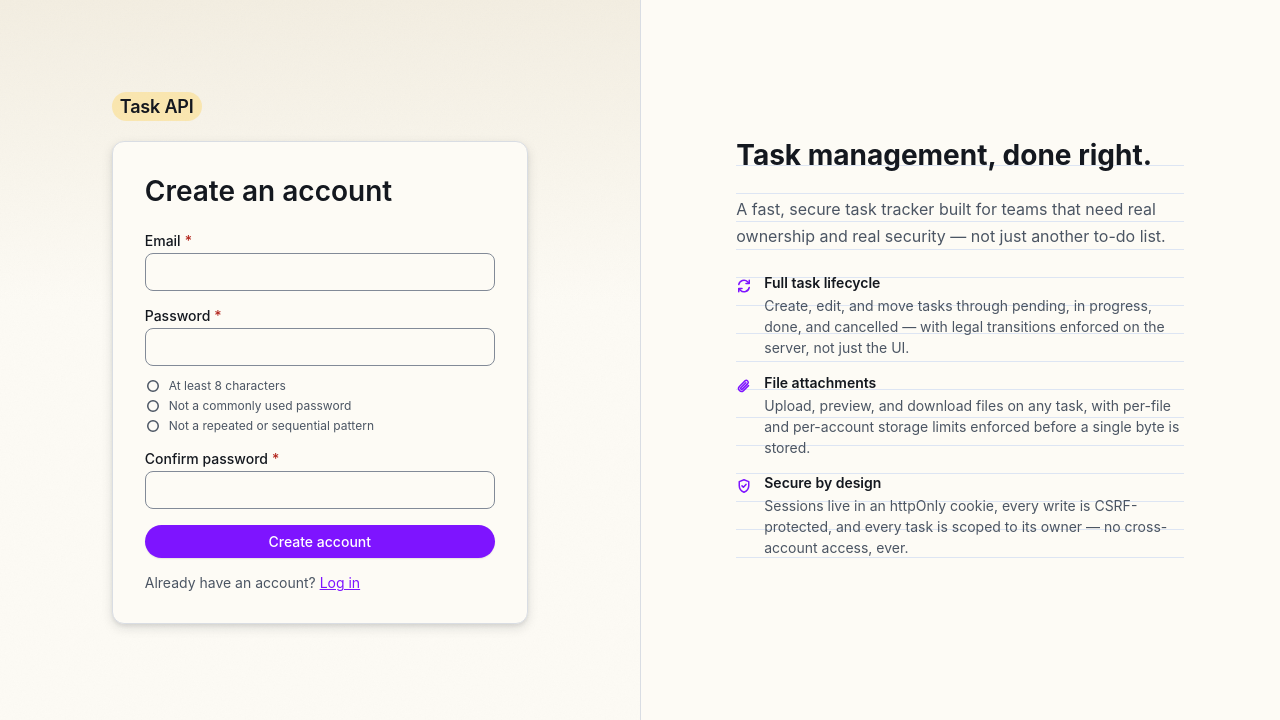
Test: RegisterPage › shows the server message verbatim on a 409 (email already registered)
Type "alice@example.com" into the field labelled "Email*" at (320, 272), box [145,253,495,291]
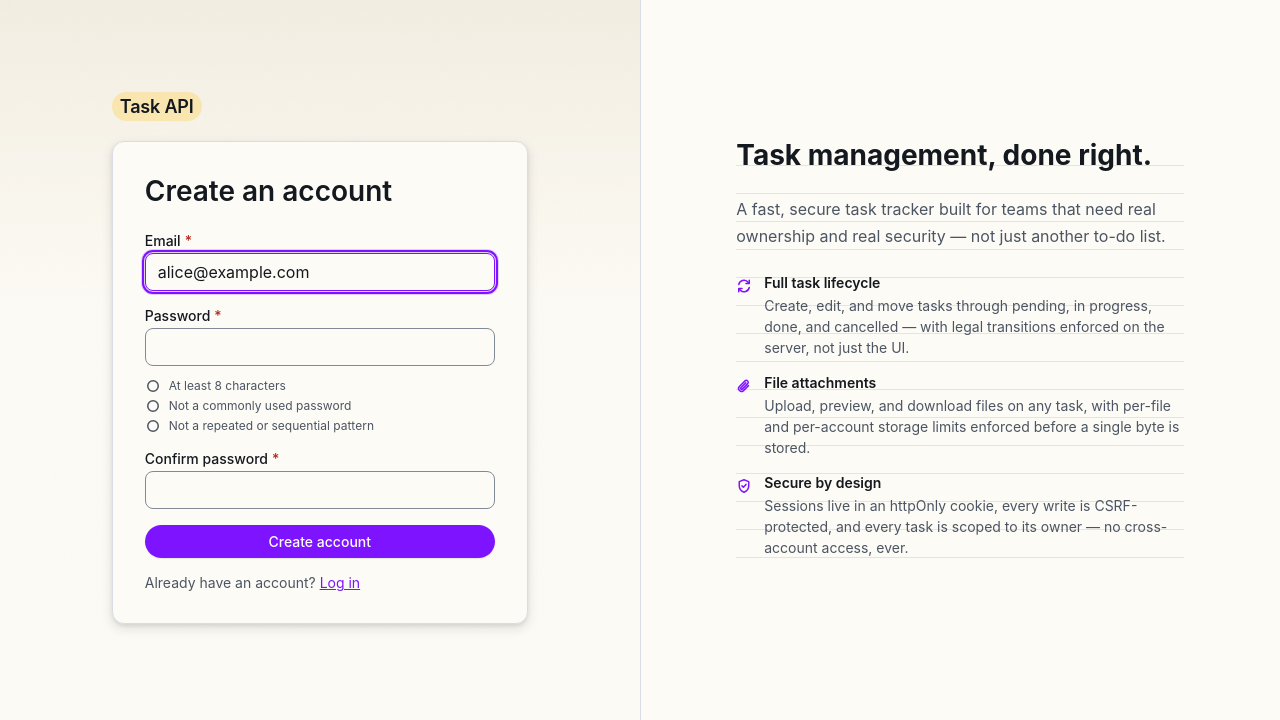
Type "correct horse battery staple" into the password field labelled "Password*" at (320, 347), box [145,328,495,366]
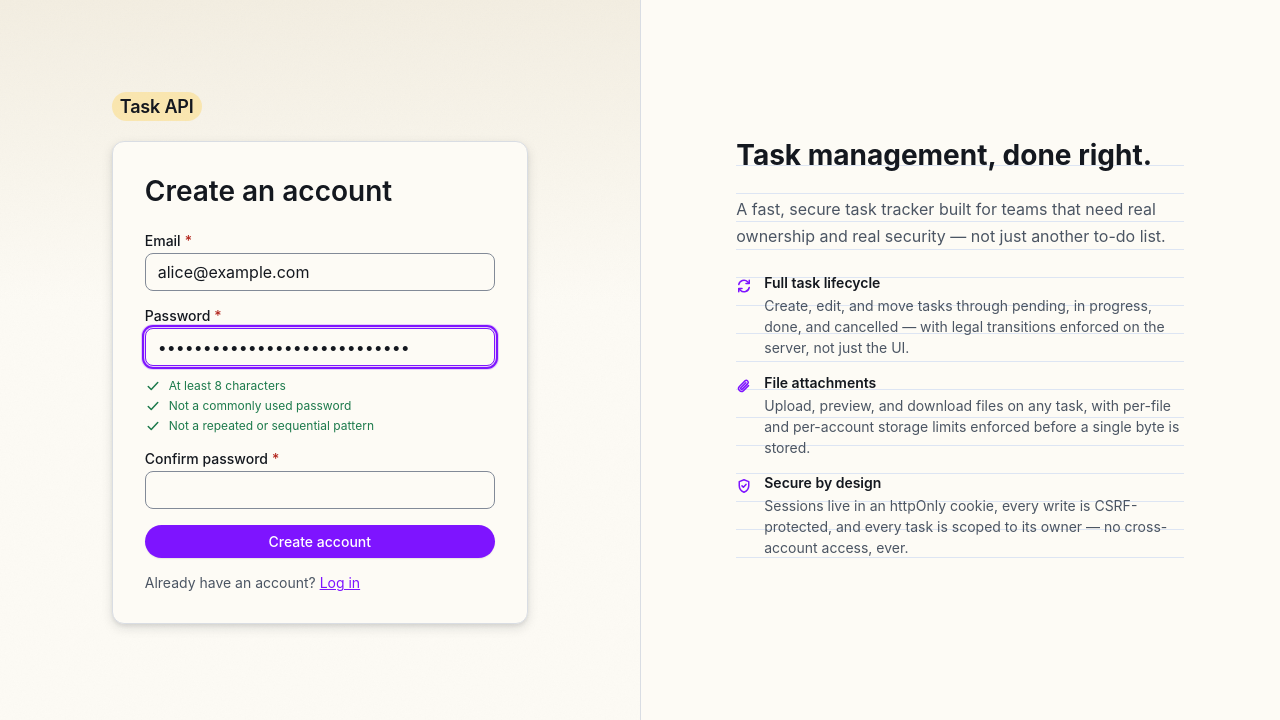
Type "correct horse battery staple" into the password field labelled "Confirm password*" at (320, 490), box [145,471,495,509]
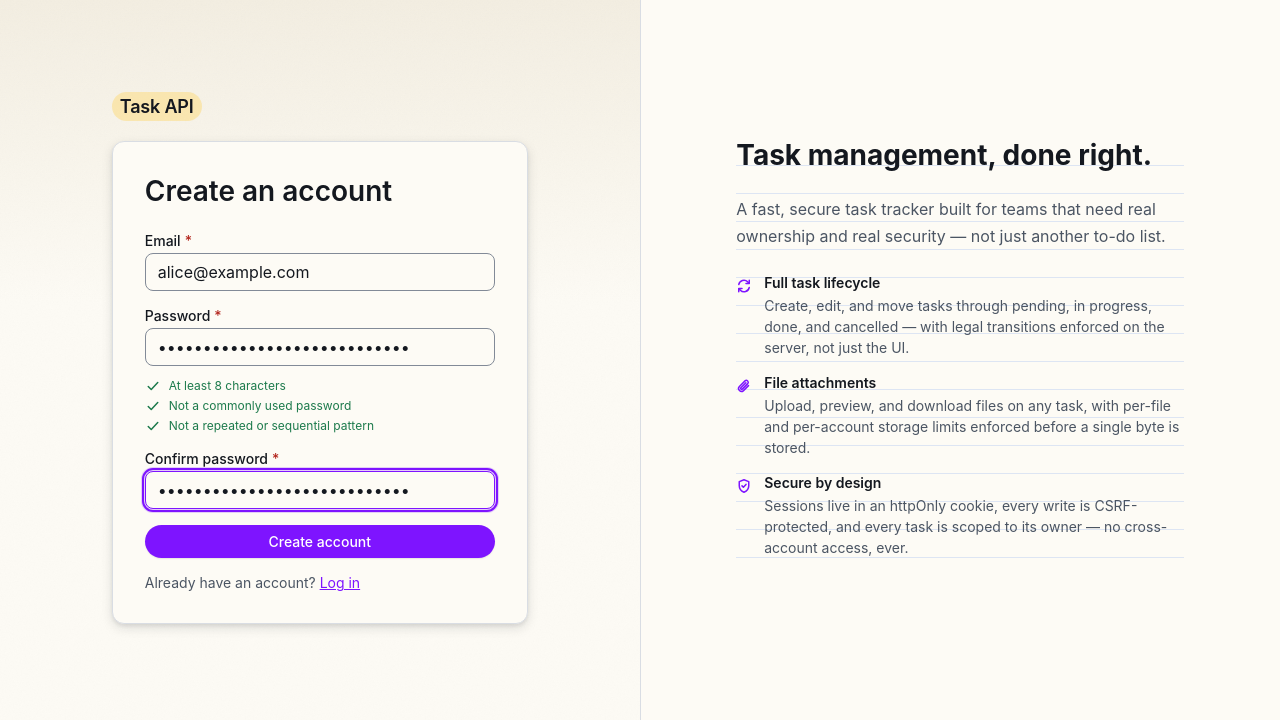
Click the button "Create account" at (320, 542), box [145,525,495,558]
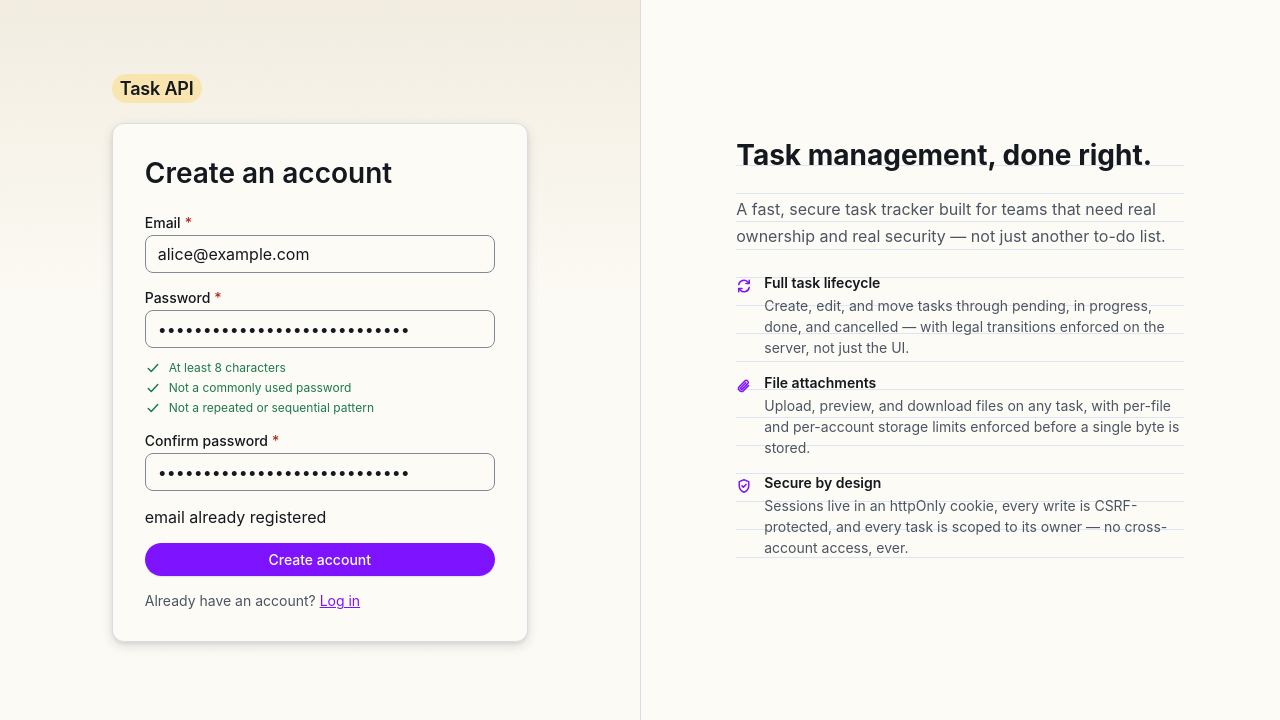
Check: the message reads "email already registered", box [145,507,326,527]
